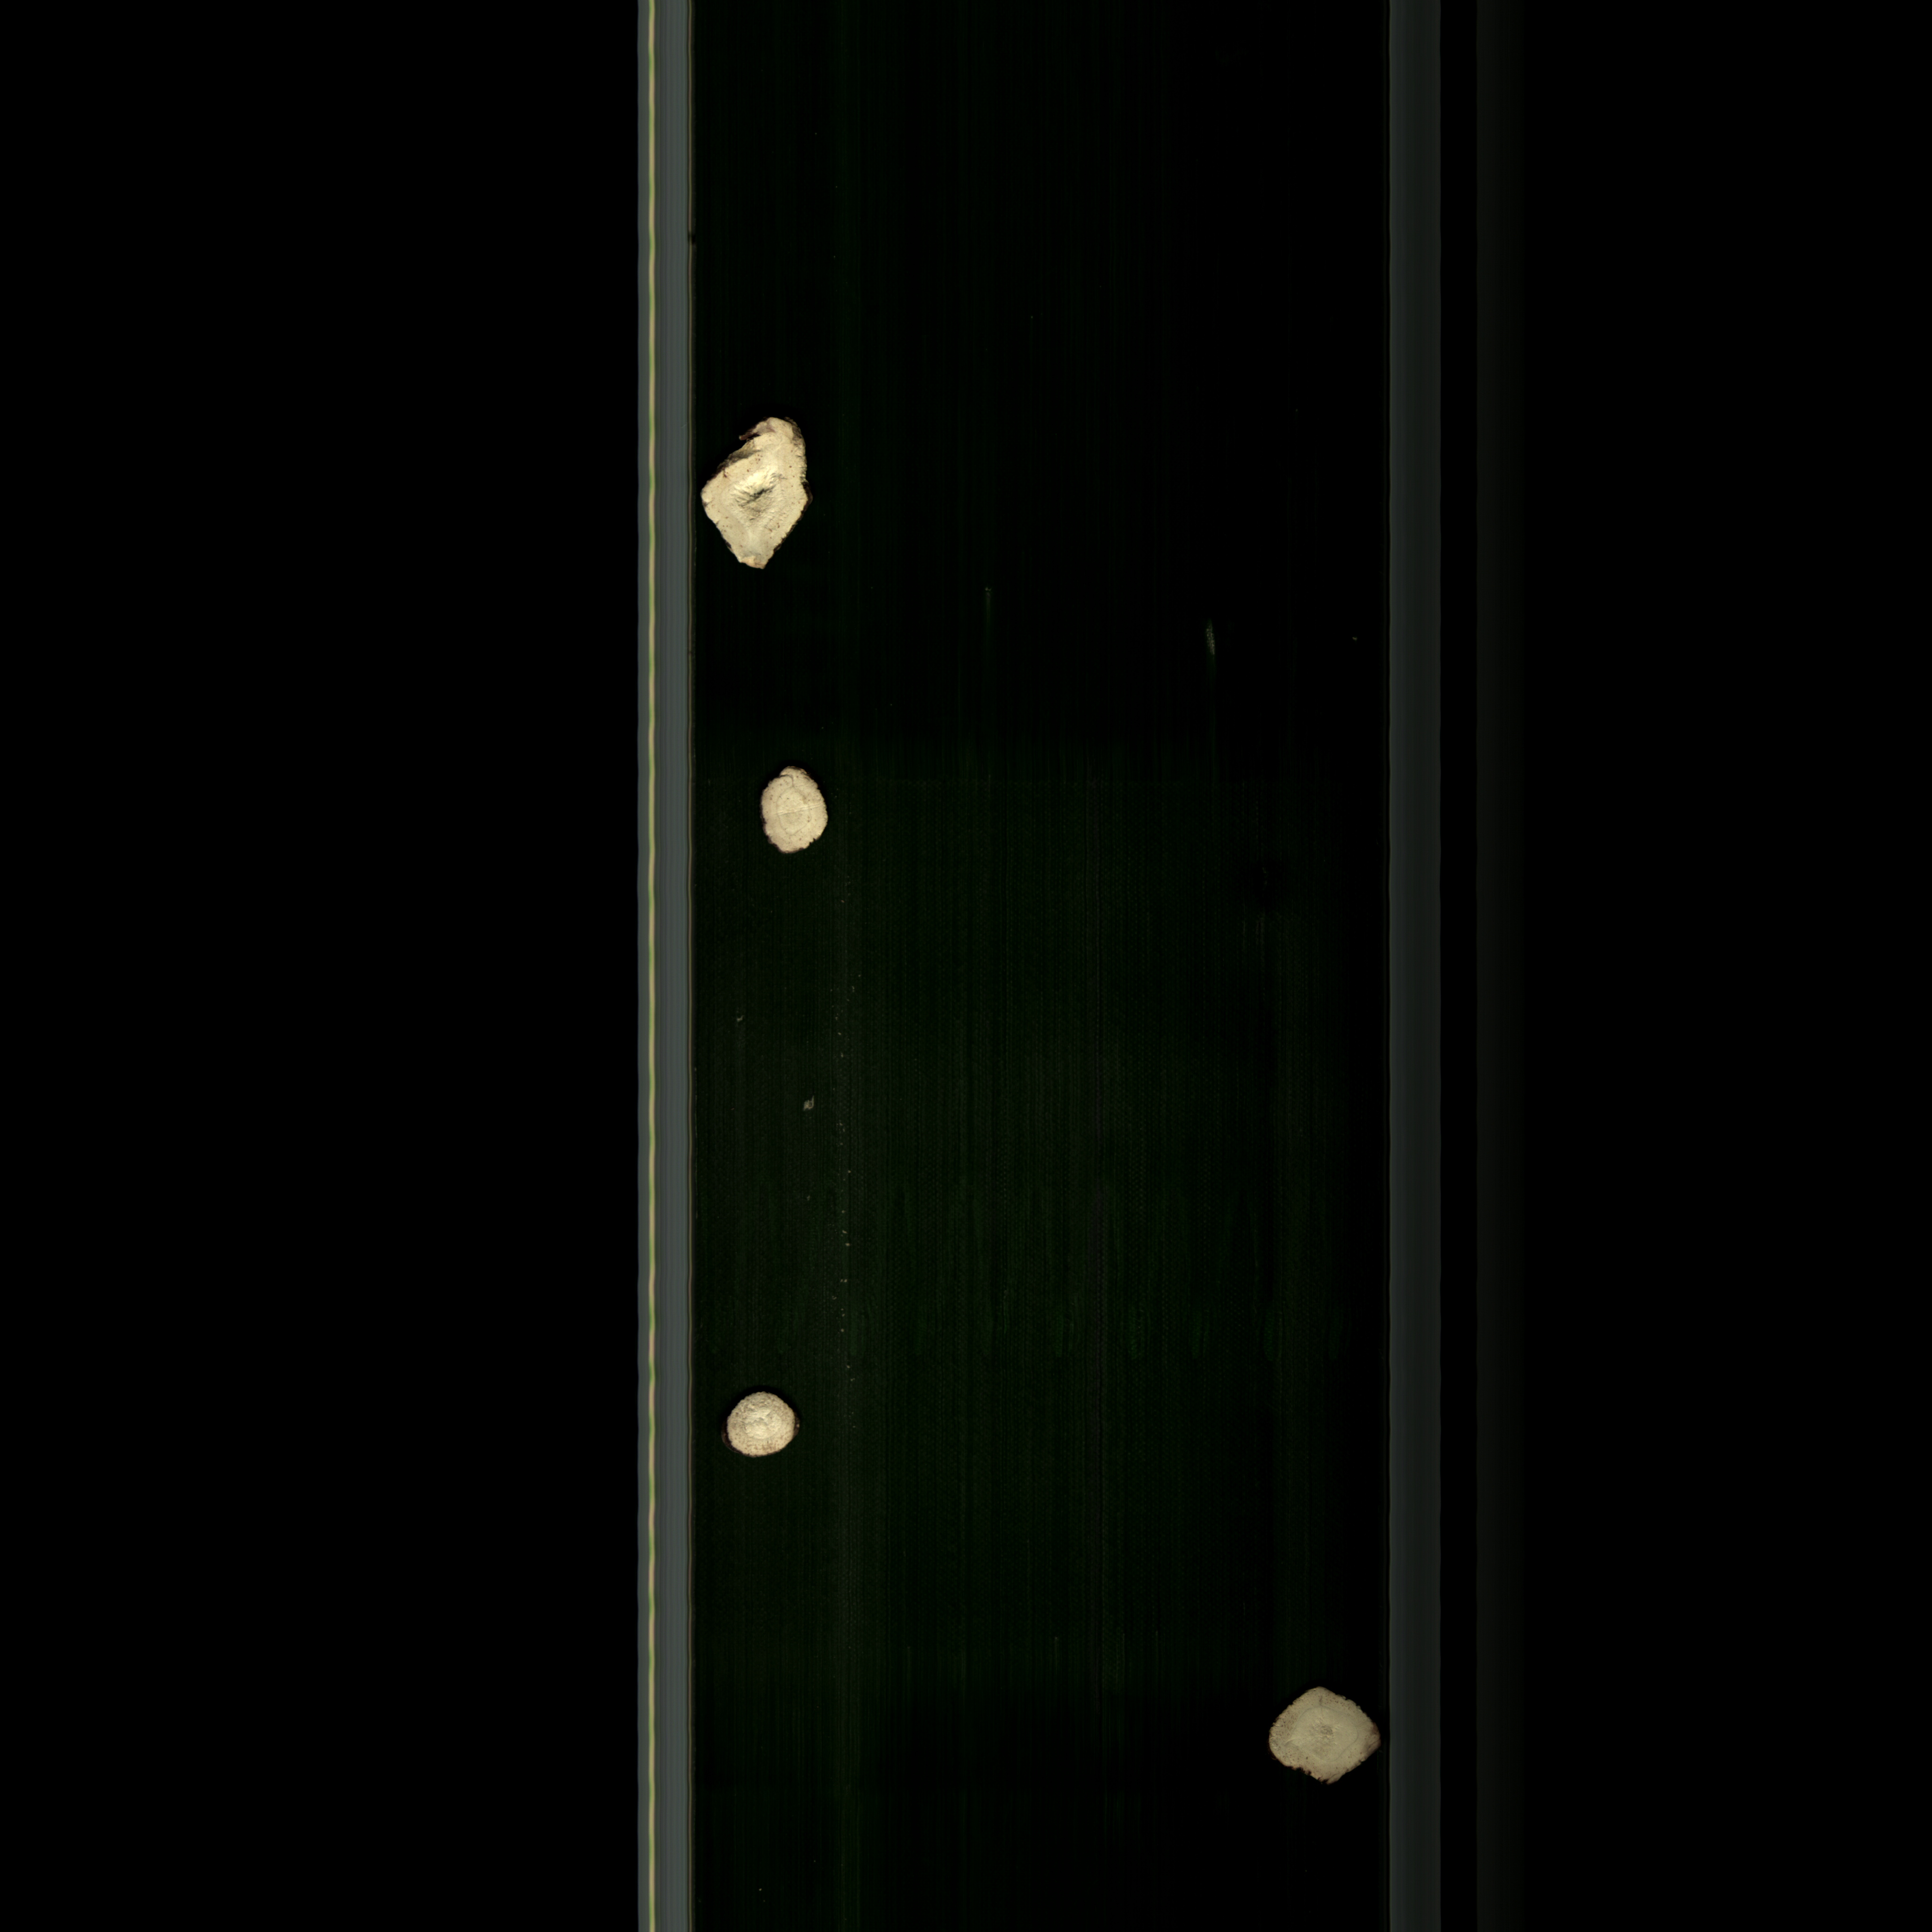debris: (690, 403, 826, 586)
distortion: (1256, 1679, 1391, 1794), (750, 757, 840, 870)
